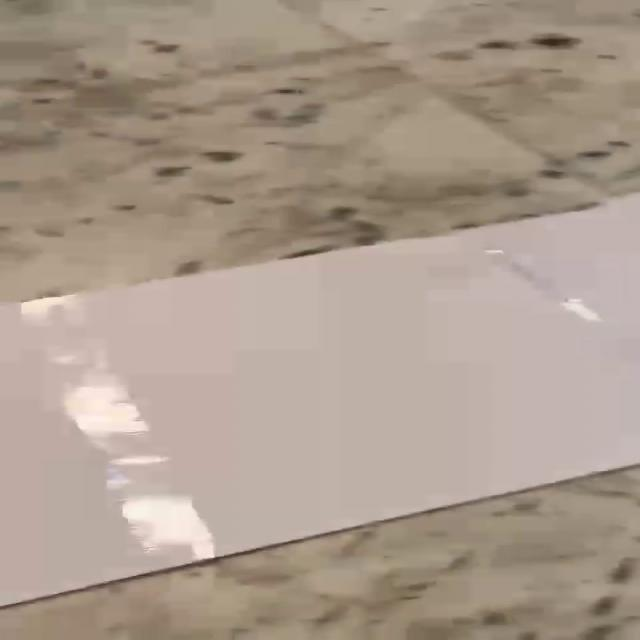road: (1, 195, 640, 605)
